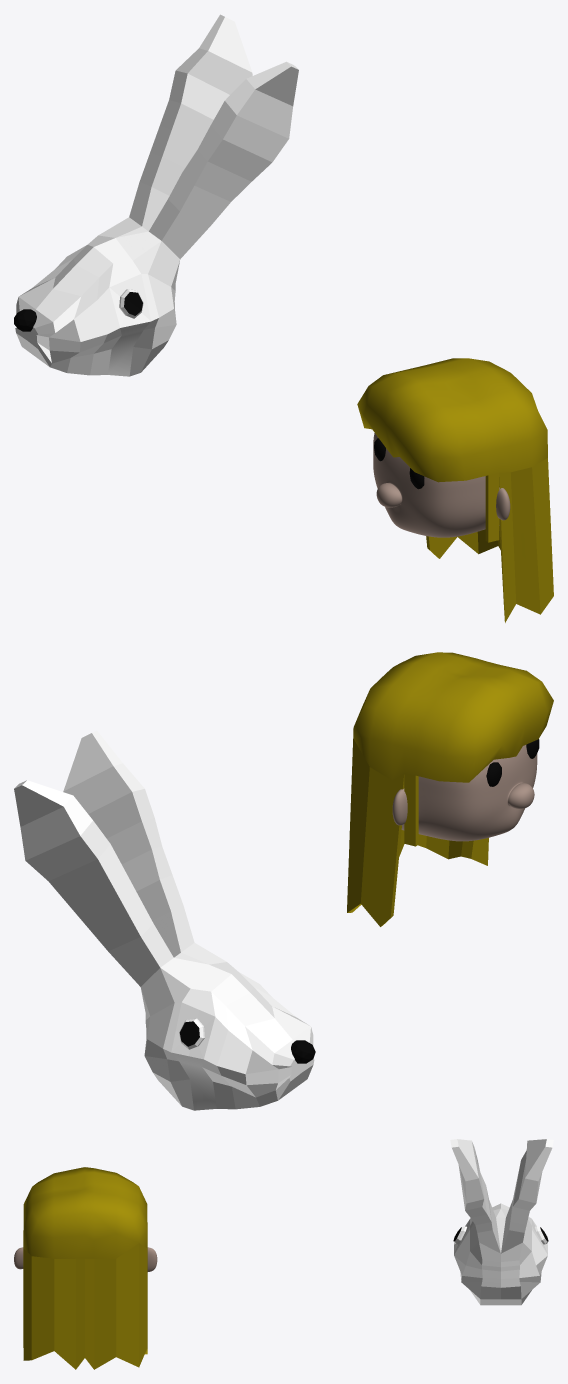
Rendered from alicehead.FBX.
3 renders of one model, top to bottom at view 1: azimuth 30°, elevation 25°; view 2: azimuth 150°, elevation 25°; view 3: azimuth 270°, elevation 25°, orthographic. The views are drawn at different scales.
Parts seen in each view (by area): view 1: Plane001, Object003, Box004; view 2: Plane001, Object003, Box004; view 3: Object003, Plane001, Box004.
Boxes of the visible parts, box(x1,y1,x2,y2) form: Plane001: box(15, 14, 298, 376); Object003: box(357, 358, 553, 622); Box004: box(373, 433, 510, 537); Plane001: box(14, 730, 314, 1110); Object003: box(347, 652, 553, 926); Box004: box(392, 745, 537, 841); Object003: box(23, 1167, 147, 1369); Plane001: box(450, 1139, 553, 1305); Box004: box(14, 1247, 157, 1271).
Bounding box in the file's own units: 129 × 157 × 325.
